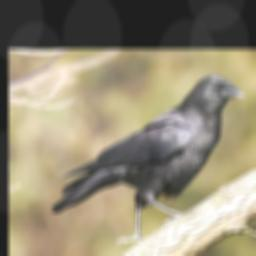Crow: (51, 74, 250, 249)
